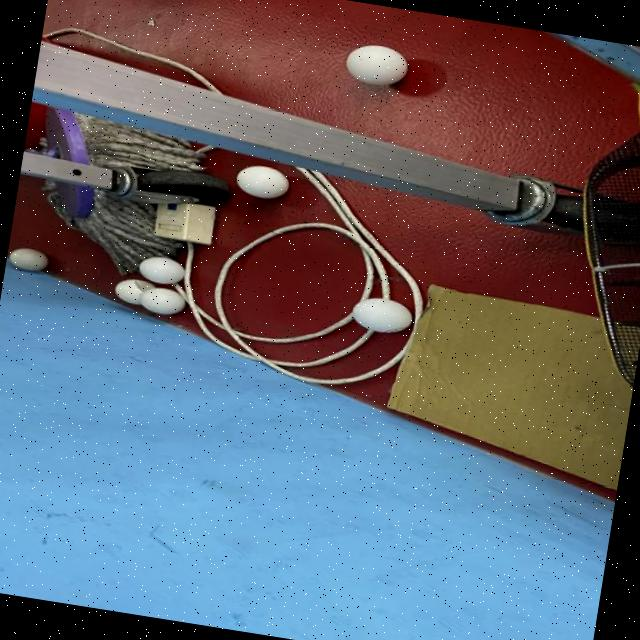ping-pong-ball: (341, 40, 412, 92), (348, 292, 417, 338), (230, 160, 294, 203), (134, 252, 187, 288), (136, 284, 188, 318), (110, 276, 161, 308), (6, 246, 52, 274)
